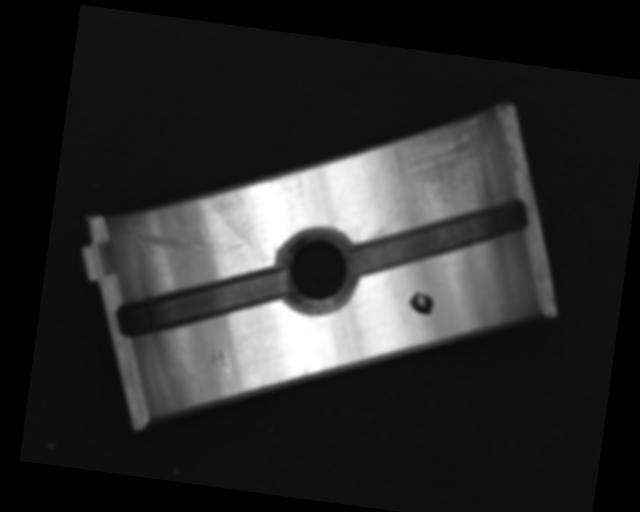blot: (406, 290, 436, 315)
bruise: (206, 347, 236, 383)
gap: (349, 176, 529, 296), (113, 249, 293, 357)
hole: (268, 219, 364, 319)
nick: (117, 218, 255, 283)
scratch: (369, 95, 497, 253)
